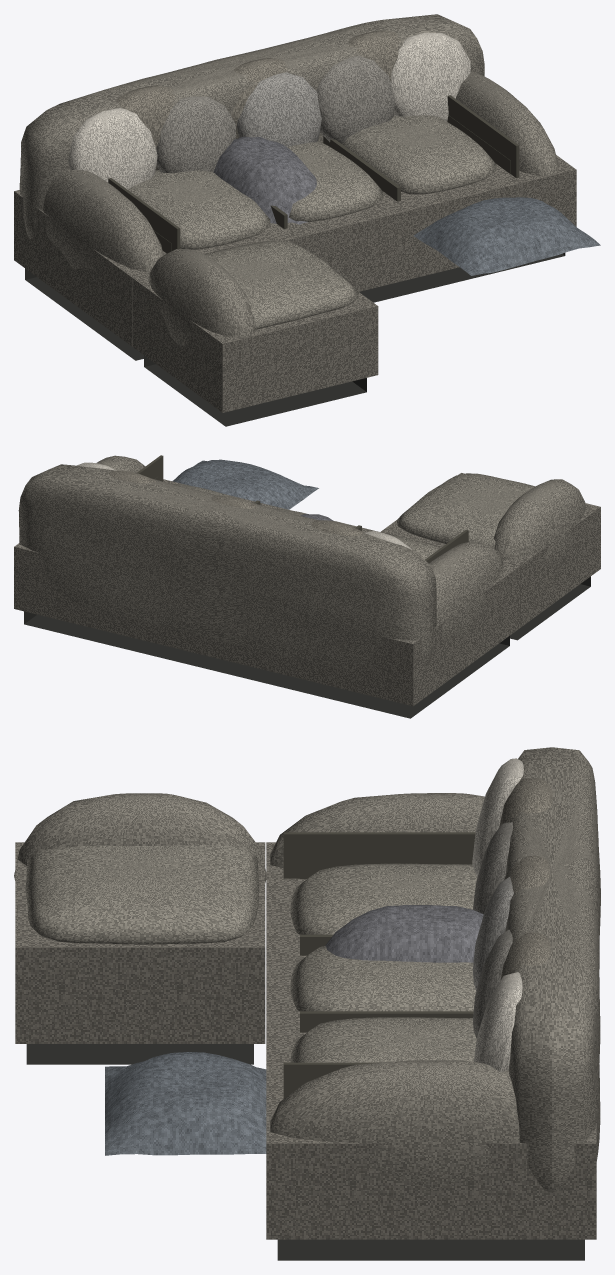
The model's file is sofa_s5.glb.
3 renders of one model, top to bottom at view 1: azimuth 30°, elevation 25°; view 2: azimuth 150°, elevation 25°; view 3: azimuth 270°, elevation 25°, orthographic. The views are drawn at different scales.
Parts seen in each view (by area): view 1: root; view 2: root; view 3: root.
Boxes of the visible parts, x1,y1,x2,y2 form: root: [14, 14, 600, 426]; root: [14, 455, 600, 718]; root: [14, 747, 600, 1260].
Bounding box in the file's own units: 2.33 × 0.8853 × 1.89.
11 materials, 9 textured.
